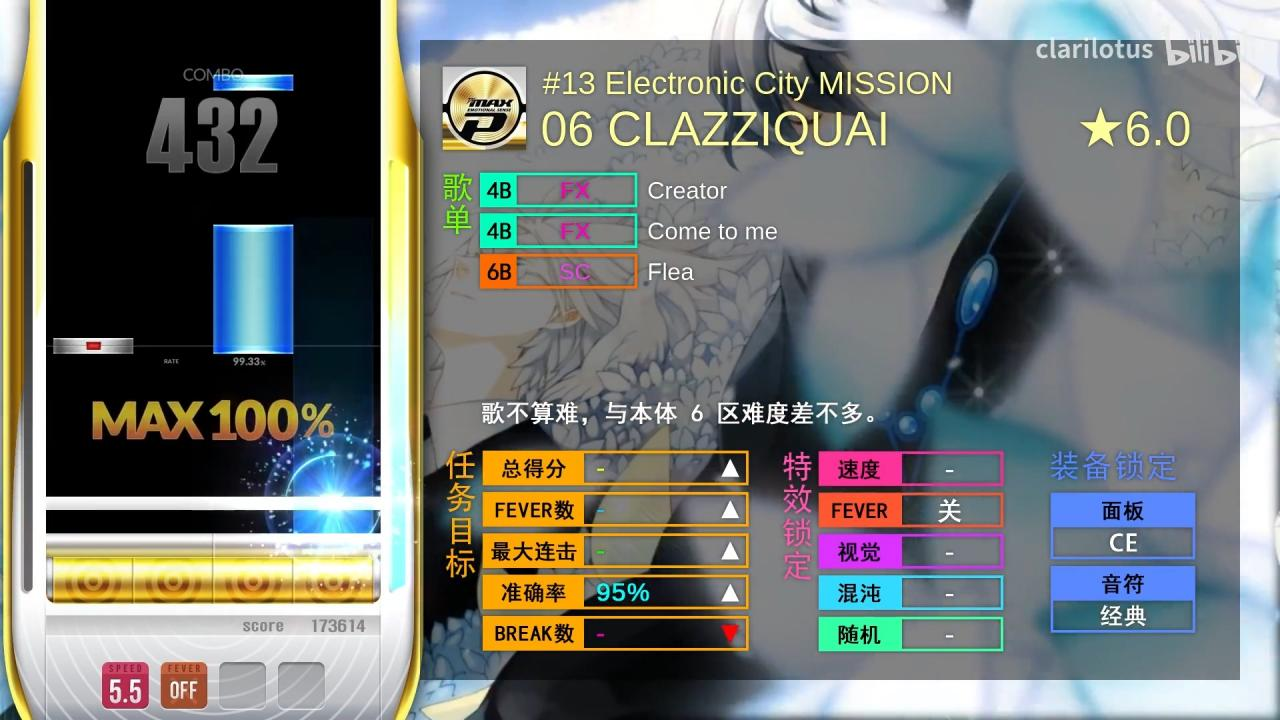hold-end: (213, 224, 294, 244)
hold-start: (213, 334, 294, 354)
note: (214, 74, 294, 92), (53, 338, 134, 354)
